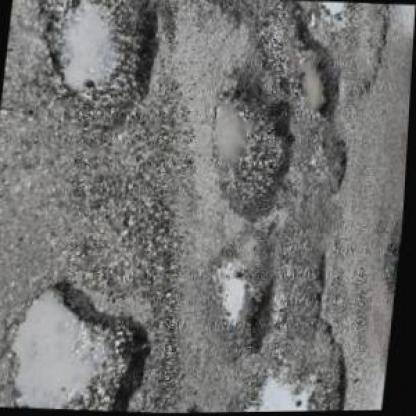pothole: (7, 273, 165, 412), (262, 245, 368, 412), (197, 76, 304, 222), (200, 228, 284, 364), (314, 130, 354, 196)
